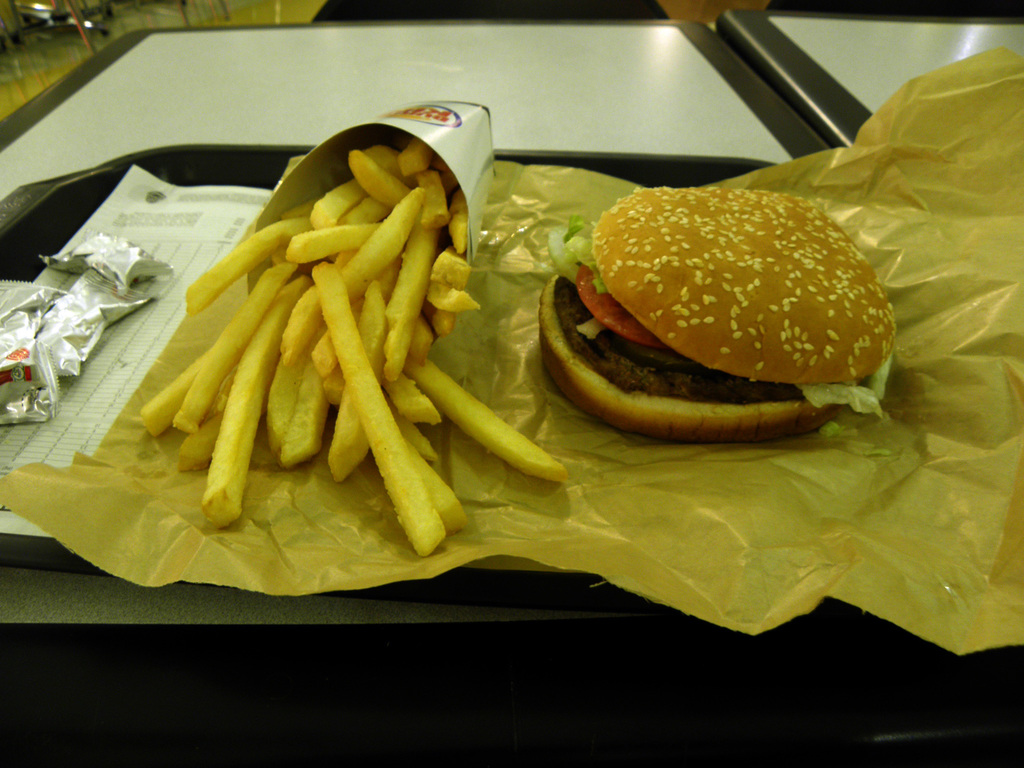French fries: (149, 119, 542, 549)
